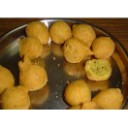bonda: (18, 59, 47, 89), (62, 36, 91, 64), (66, 80, 94, 104), (2, 87, 31, 109), (19, 34, 43, 59), (49, 19, 71, 44), (99, 88, 125, 109), (94, 35, 116, 58)
